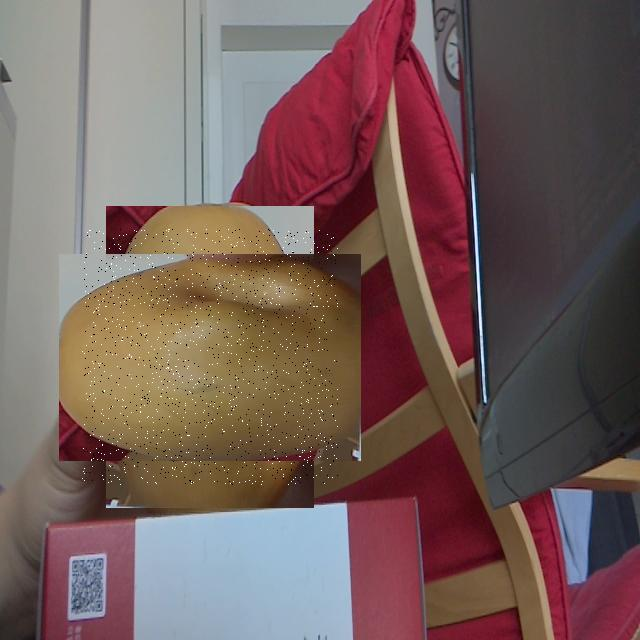pear: (82, 229, 338, 485)
